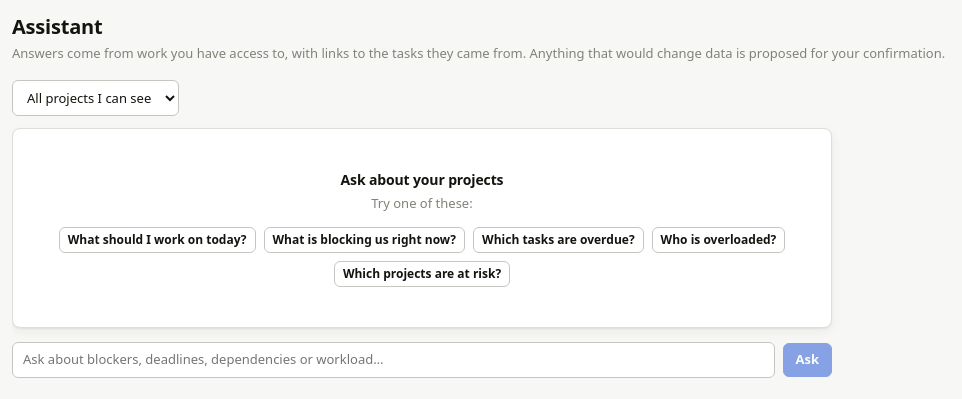
Test: Assistant › shows a refusal as a refusal, with no invented facts
The image size is (962, 399).
In the field named "Question": (393, 360) x1=12 y1=342 x2=774 y2=378, type "What is our revenue forecast?"
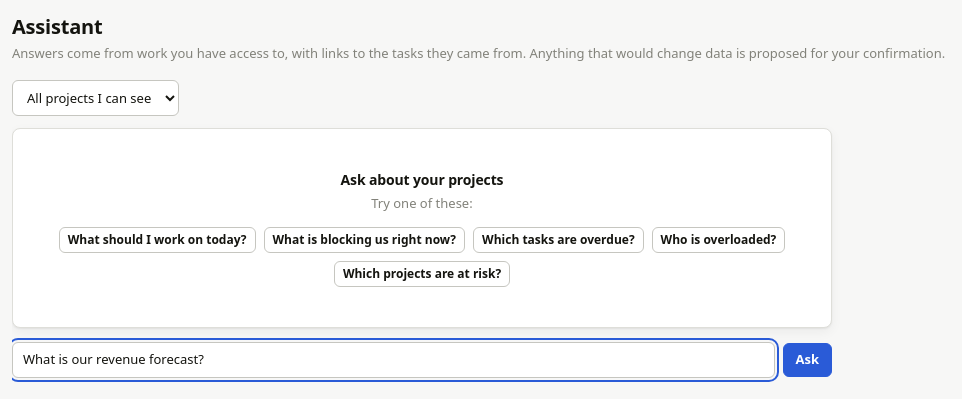
Click the button "Ask": (807, 360) x1=782 y1=343 x2=832 y2=376
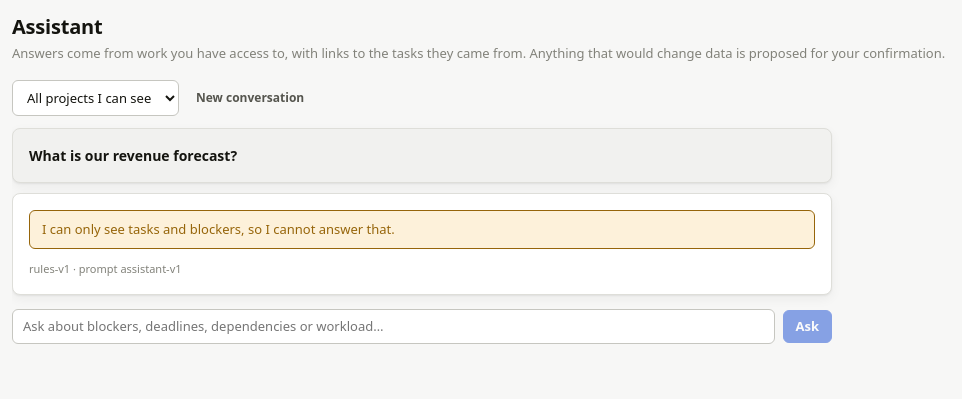
Result: the text "I can only see tasks and blockers, so I cannot answer that." is shown at x1=29 y1=210 x2=815 y2=249
